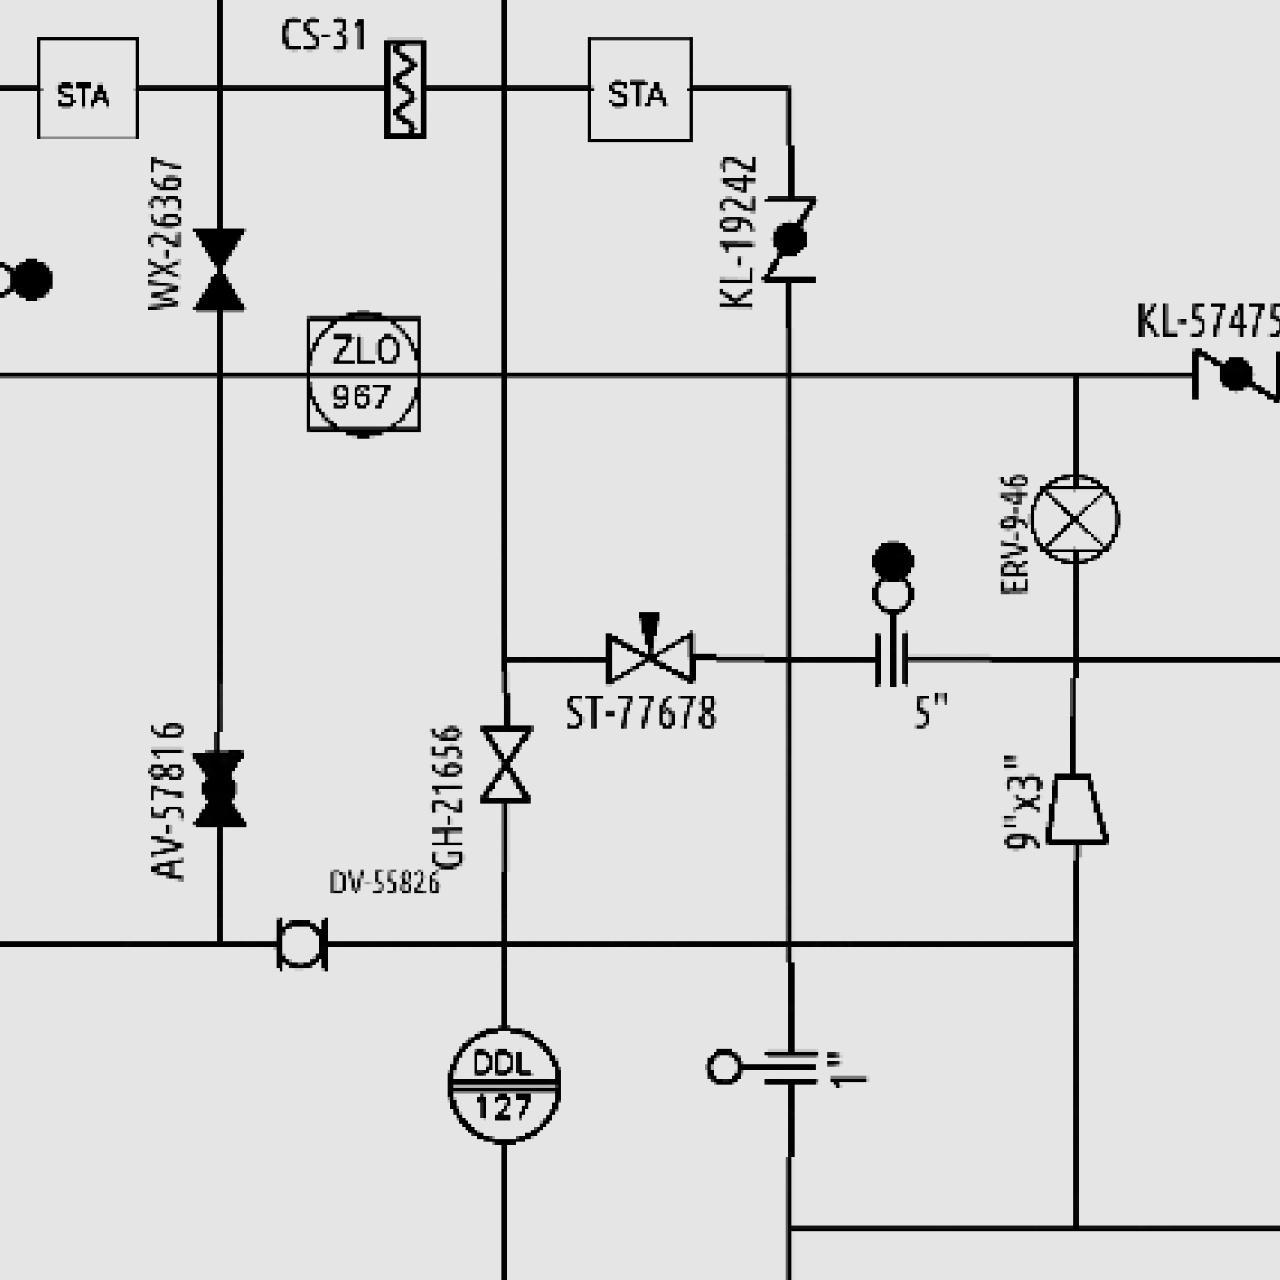Control-Panel: (441, 1021, 566, 1148)
